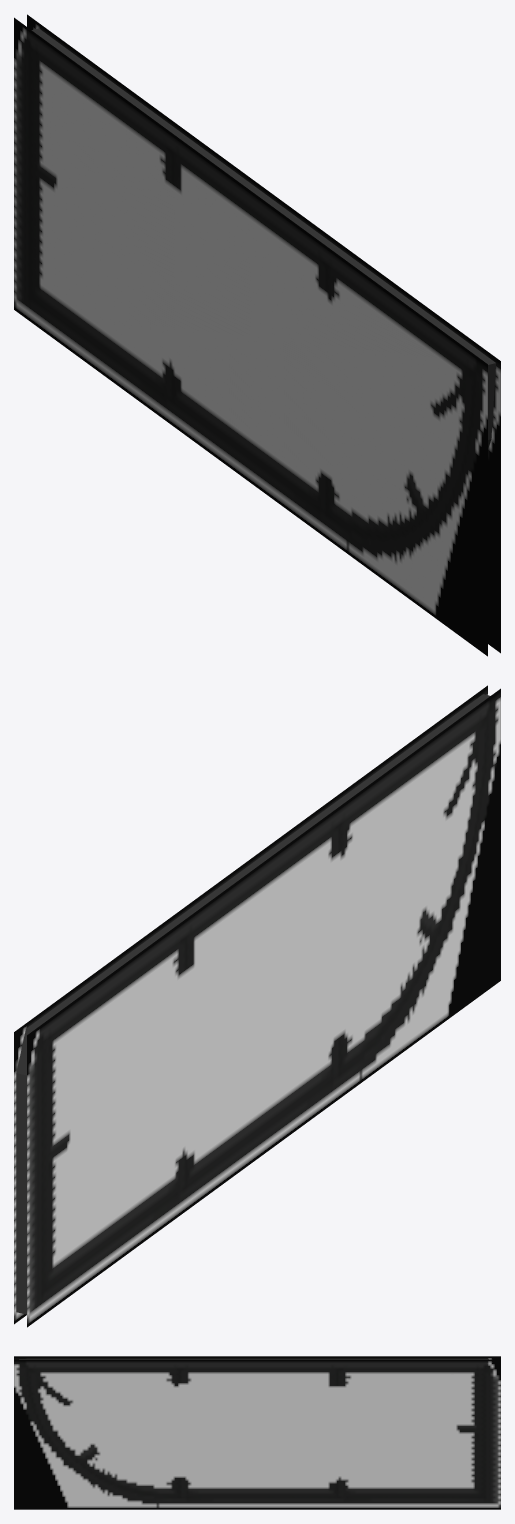
The model's file is pz_native_fixtures_windows_metal_94_frame.obj.
3 views of the same model, one above another, from view 1: azimuth 30°, elevation 25°; view 2: azimuth 150°, elevation 25°; view 3: azimuth 270°, elevation 25° (orthographic). The views are drawn at different scales.
Visible parts, largest first — view 1: pz_native_fixtures_windows_metal_94_frame; view 2: pz_native_fixtures_windows_metal_94_frame; view 3: pz_native_fixtures_windows_metal_94_frame.
Boxes of the visible parts, x1,y1,x2,y2 form: pz_native_fixtures_windows_metal_94_frame: [14, 14, 500, 656]; pz_native_fixtures_windows_metal_94_frame: [14, 685, 500, 1327]; pz_native_fixtures_windows_metal_94_frame: [14, 1356, 500, 1509].
Bounding box in the file's own units: 0.04 × 0.8594 × 2.53.
Materials: 1 (1 with a texture image).
